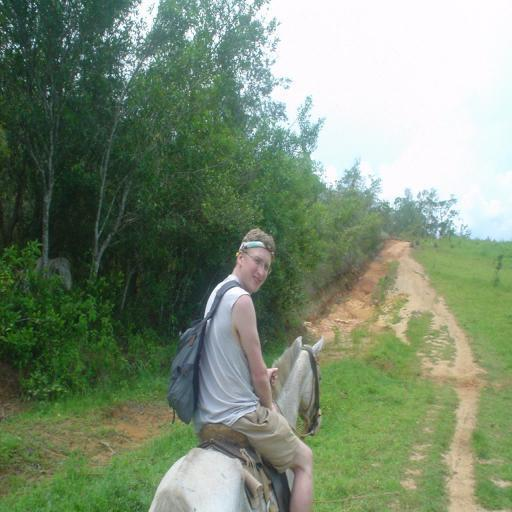horse: (148, 334, 326, 512)
